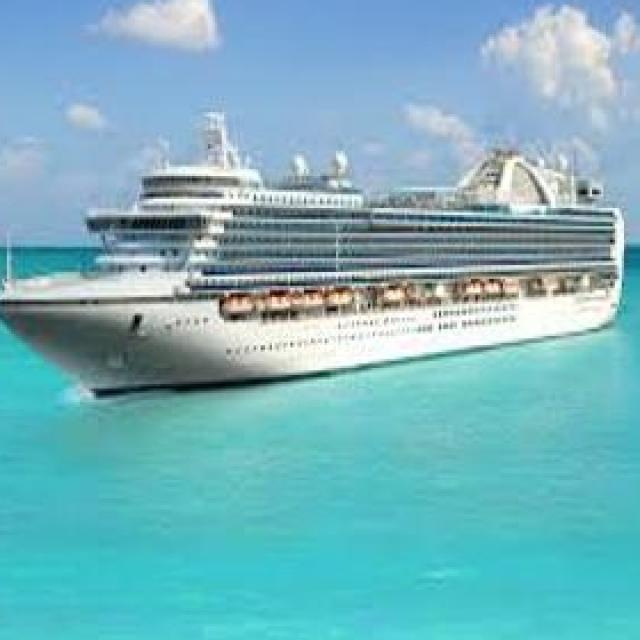passenger ship: (0, 105, 624, 389)
